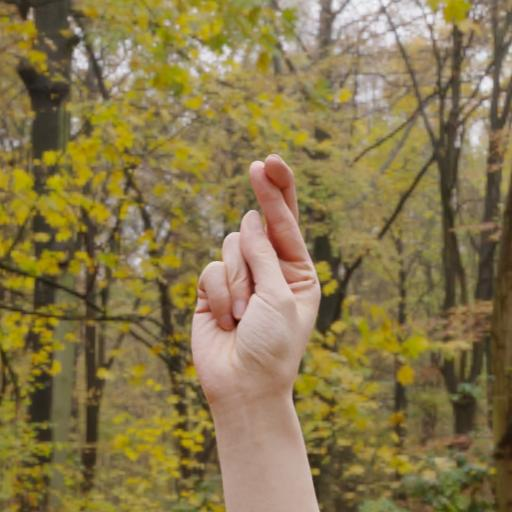R: (172, 134, 346, 426)
